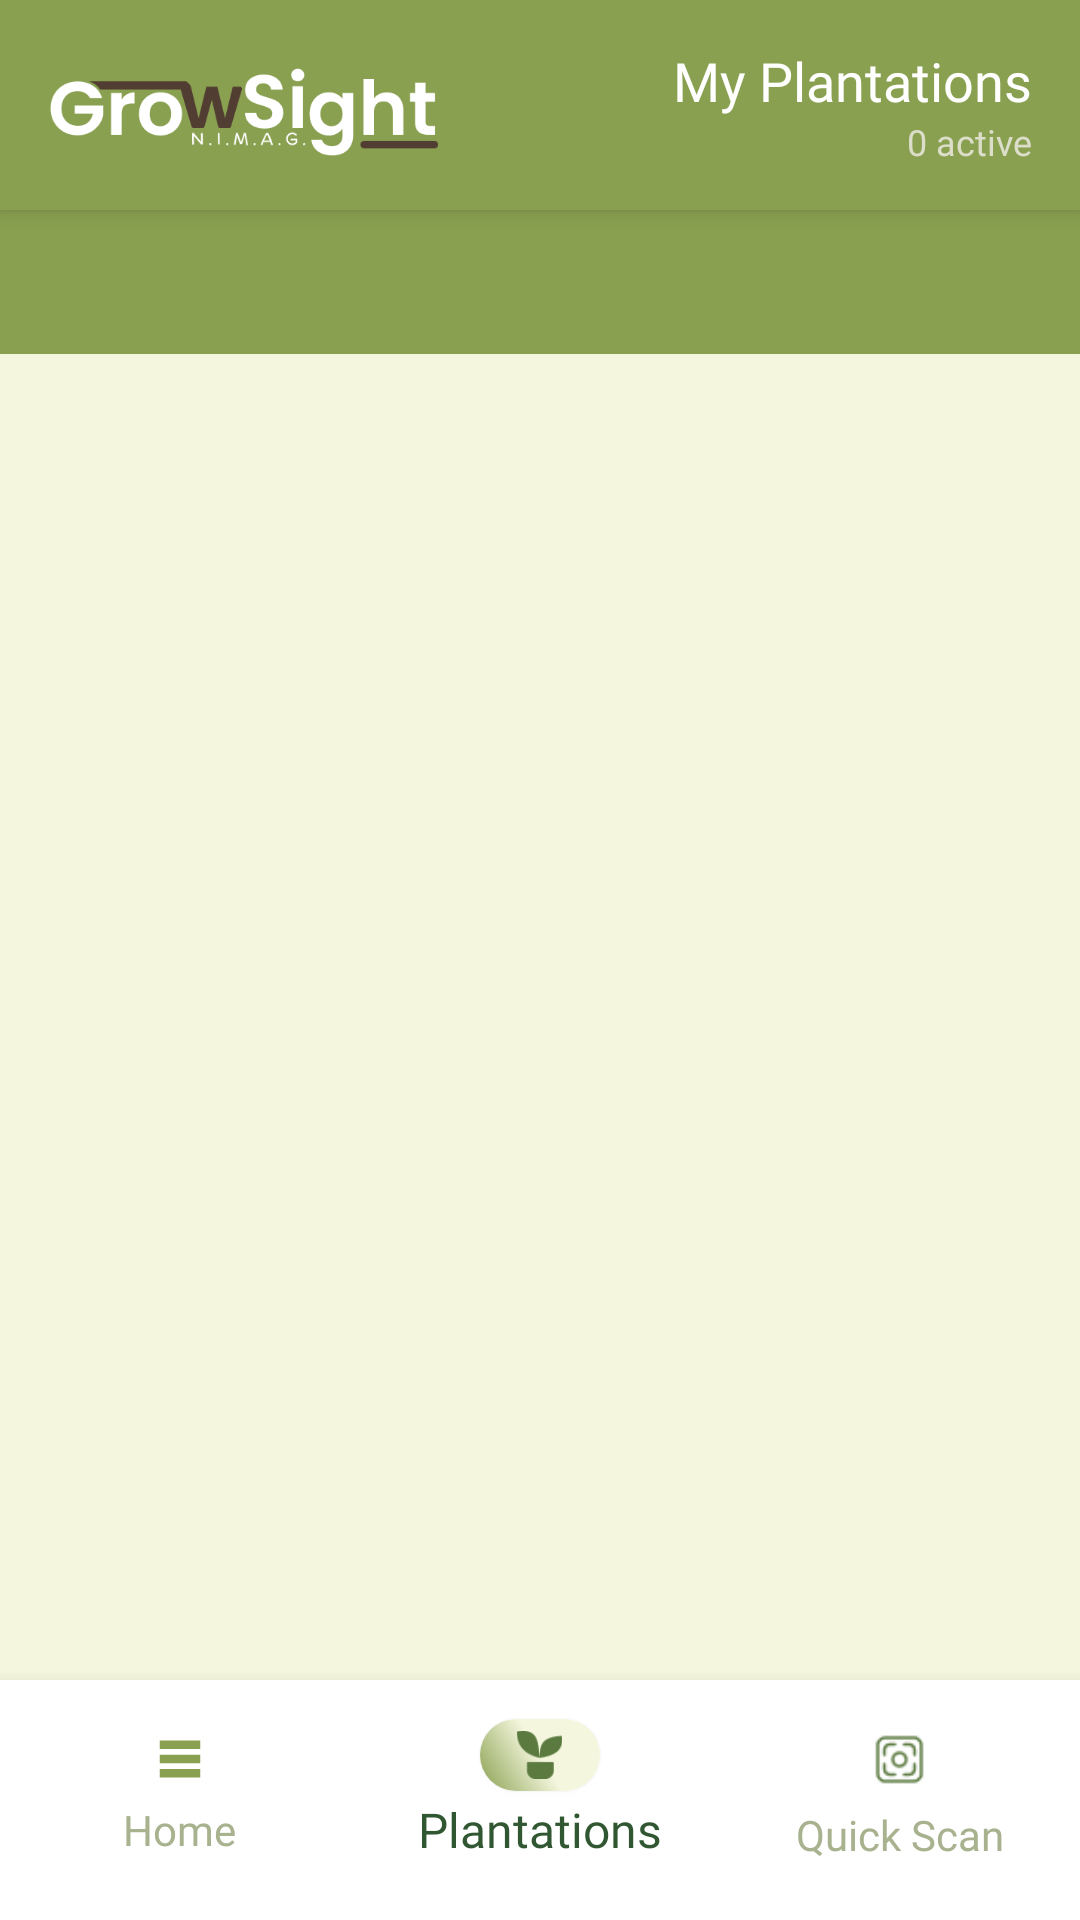

Locate icon controls on the screen. Image size 1080*1920, boxes as (x1=x1, y1=y1, x2=x2, y2=y2).
Camera: (x1=875, y1=1735, x2=924, y2=1784)
